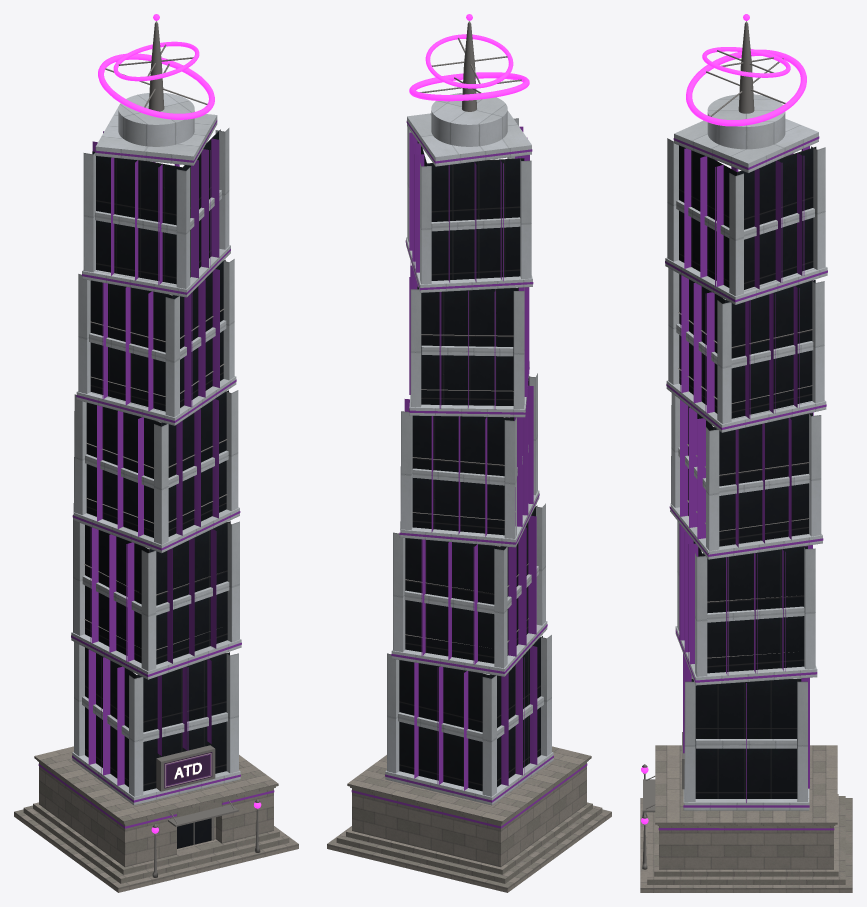
The model's file is agents-deploy-infrastructure.glb.
3 renders of one model, left to right at view 1: azimuth 30°, elevation 25°; view 2: azimuth 150°, elevation 25°; view 3: azimuth 270°, elevation 25°, orthographic.
Parts seen in each view (by area): view 1: Landmark · Agents That Deploy Infrastructure; view 2: Landmark · Agents That Deploy Infrastructure; view 3: Landmark · Agents That Deploy Infrastructure.
Part boxes in pixels (x1,y1,x2,y2): Landmark · Agents That Deploy Infrastructure: (14,14,298,892); Landmark · Agents That Deploy Infrastructure: (327,14,611,892); Landmark · Agents That Deploy Infrastructure: (640,14,852,892).
Bounding box in the file's own units: 12 × 52 × 12.
Materials: 7 (4 with a texture image).
